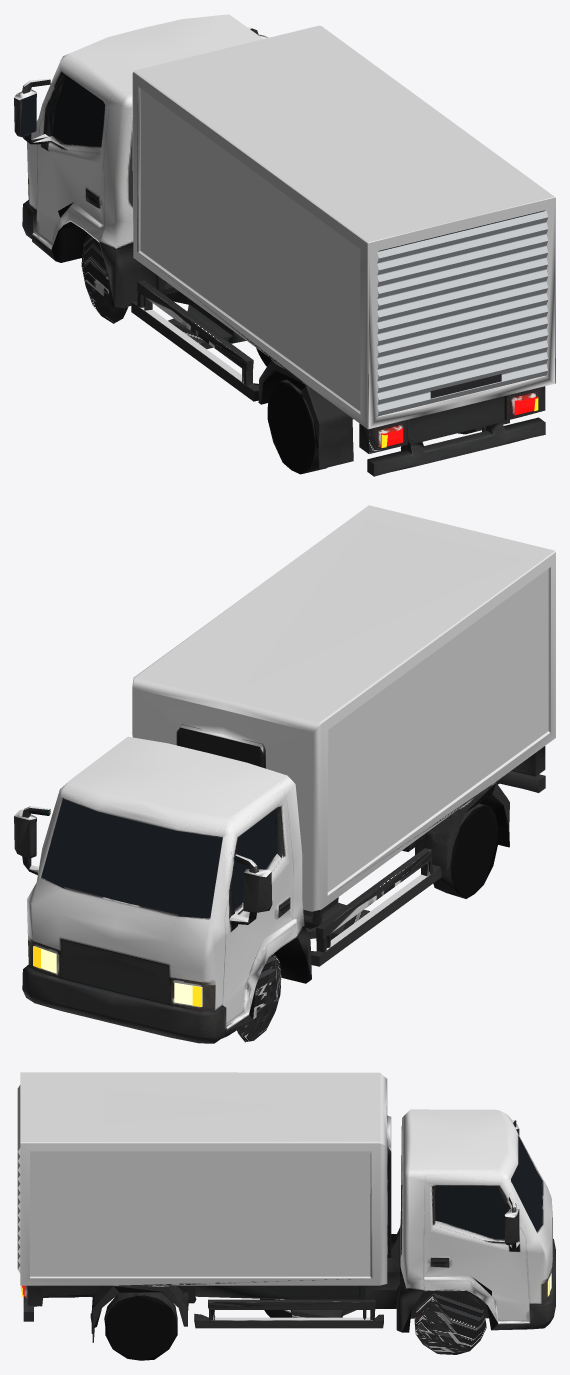
The model's file is truck.glb.
3 views of the same model, one above another, from view 1: azimuth 30°, elevation 25°; view 2: azimuth 150°, elevation 25°; view 3: azimuth 270°, elevation 25° (orthographic). The views are drawn at different scales.
Parts seen in each view (by area): view 1: body, door; view 2: body; view 3: body, door.
Part boxes in pixels (x1,y1,x2,y2): body: (14, 14, 555, 476); door: (377, 211, 548, 416); body: (14, 505, 555, 1043); body: (20, 1072, 555, 1360); door: (17, 1085, 20, 1273).
Size of the model in its own units: 3.11 by 3.37 by 7.55.
Materials: 16 (1 with a texture image).
